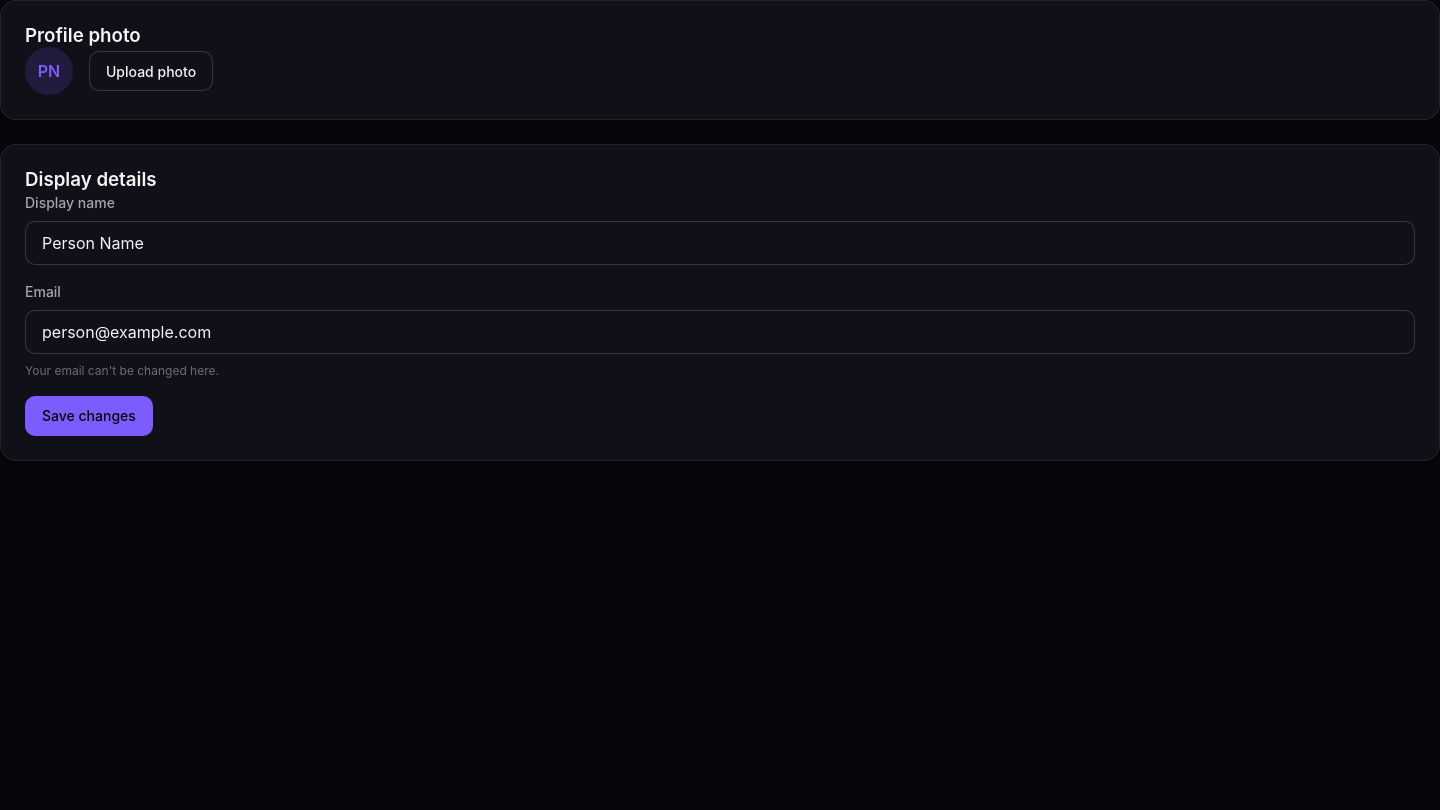
Test: ProfileSection › updates the display name and saves it
Replace the text in the field labelled "Display name" with "New Name" at coordinates (720, 243), box [25,221,1415,265]
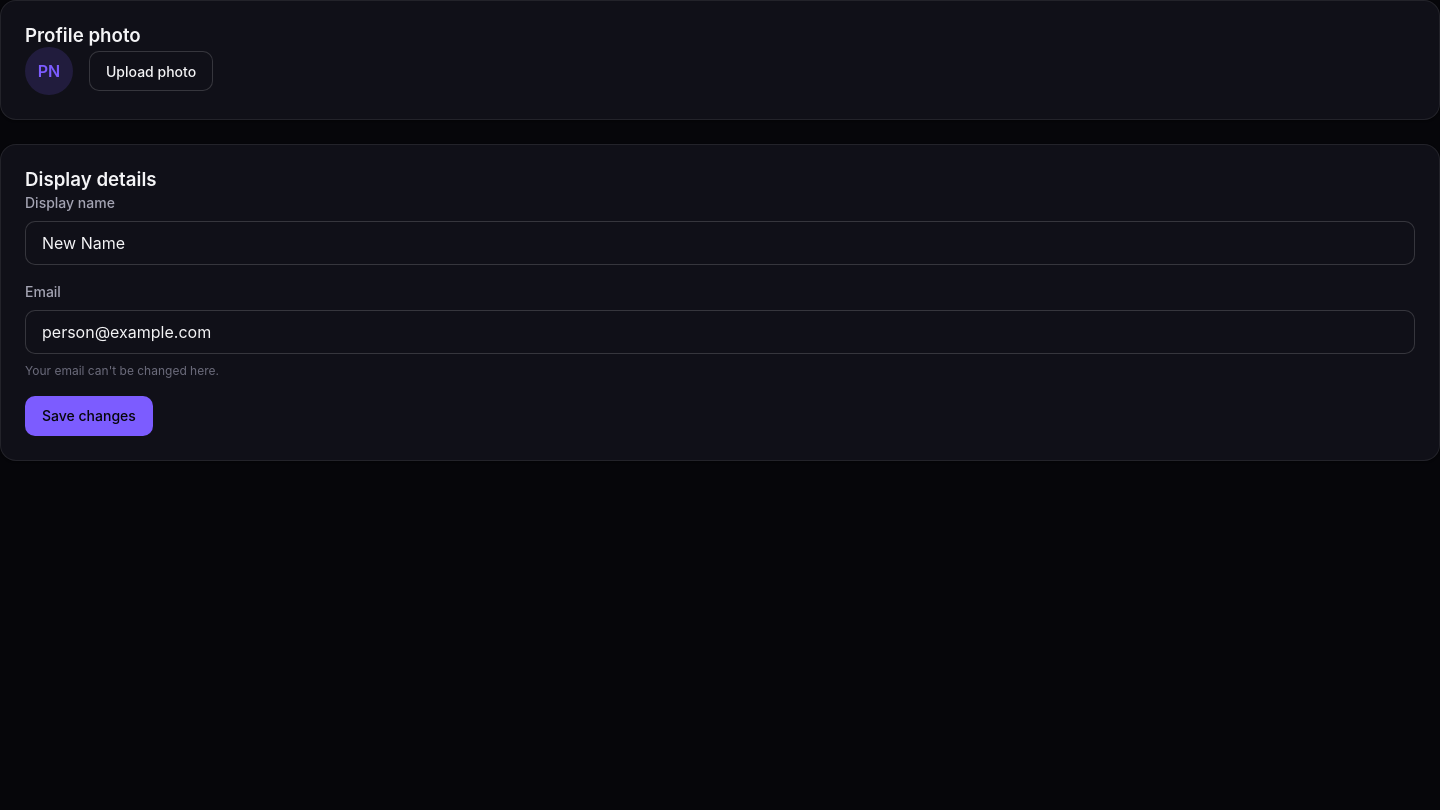
Click the button "Save changes".
click(89, 416)  # box [25,396,153,436]
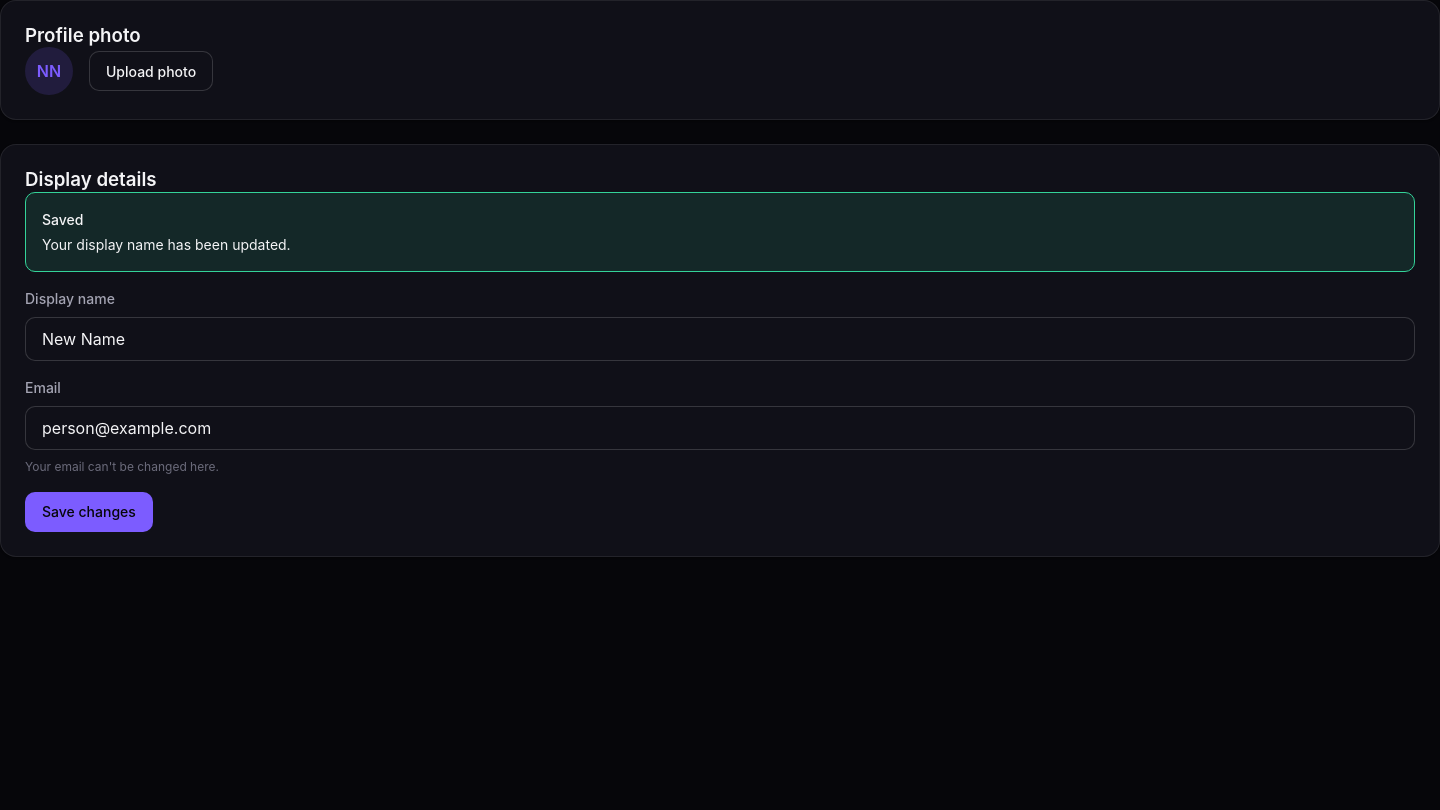
Expected: the text "Your display name has been updated." is shown, [42,236,291,253]
